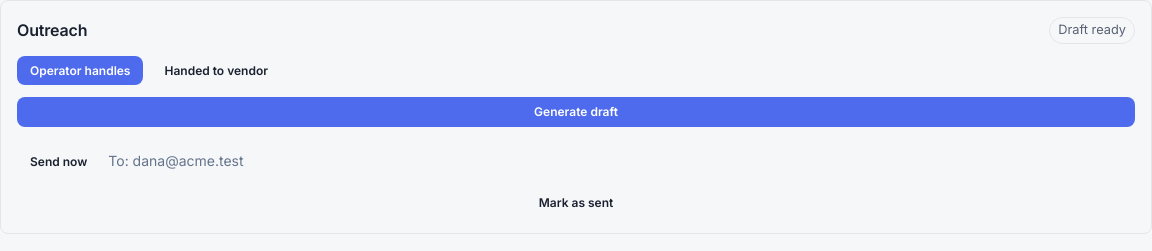
Test case: OutreachPanel › cancel returns to idle without sending
Click the button "Send now" at (59, 161), box [17, 147, 100, 176]
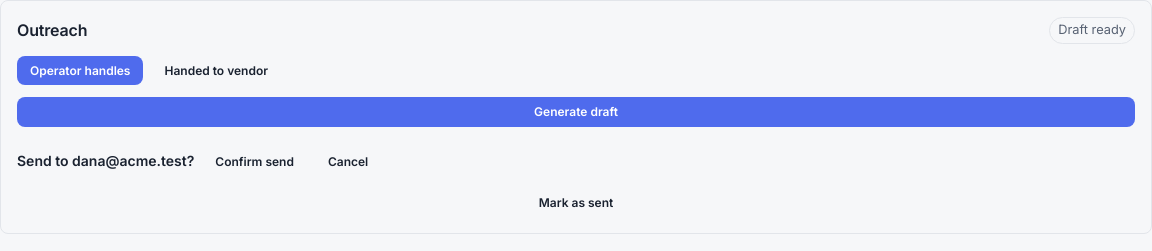
Click the button "Cancel" at (348, 161), box [315, 147, 381, 176]
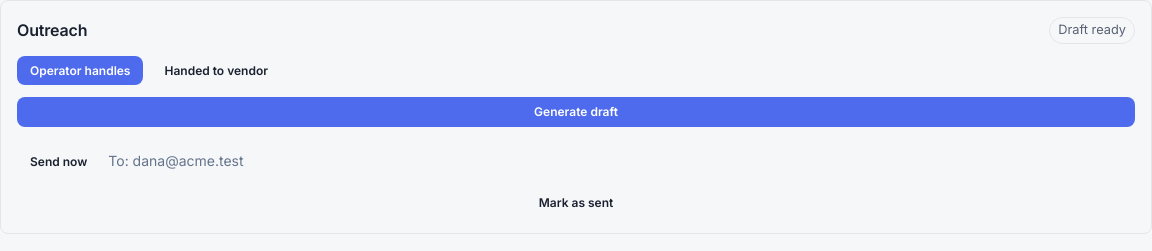
Now the text "Send to dana@acme.test?" is gone
